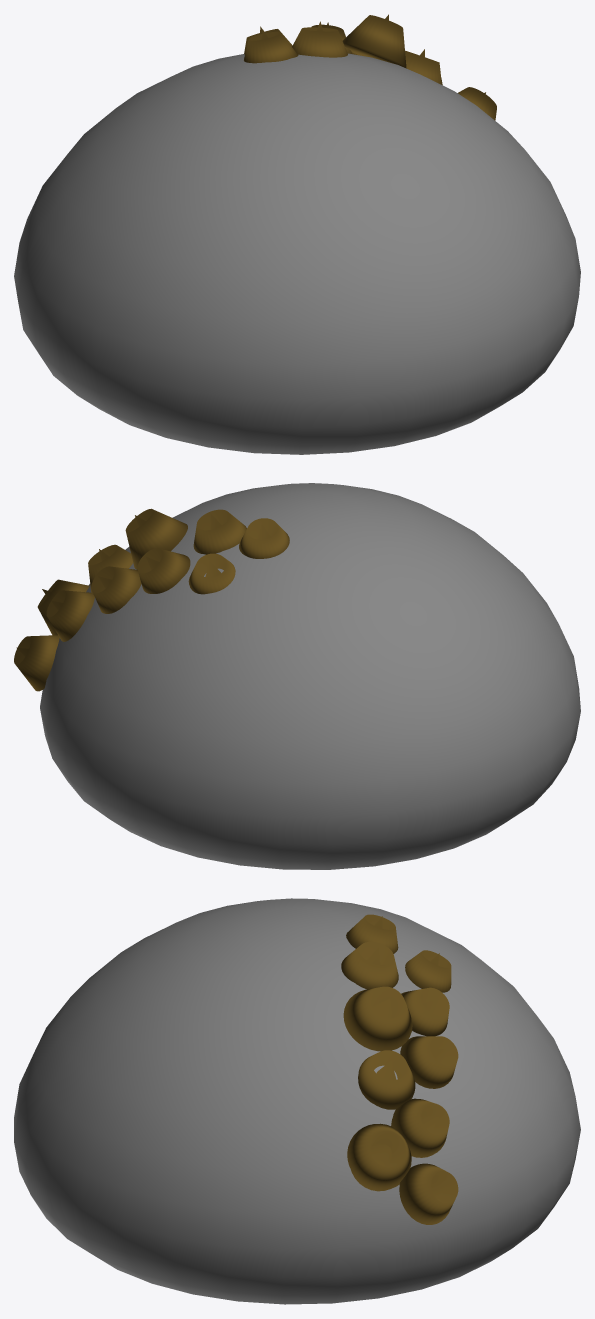
File: barnaclerock.glb
3 views of the same model, one above another, from view 1: azimuth 30°, elevation 25°; view 2: azimuth 150°, elevation 25°; view 3: azimuth 270°, elevation 25° (orthographic). The views are drawn at different scales.
Parts seen in each view (by area): view 1: BarnacleRock; view 2: BarnacleRock; view 3: BarnacleRock.
Part boxes in pixels (x1,y1,x2,y2): BarnacleRock: (14, 14, 580, 454); BarnacleRock: (14, 483, 580, 869); BarnacleRock: (14, 898, 580, 1304).
Bounding box in the file's own units: 9.99 × 6.22 × 9.97.
